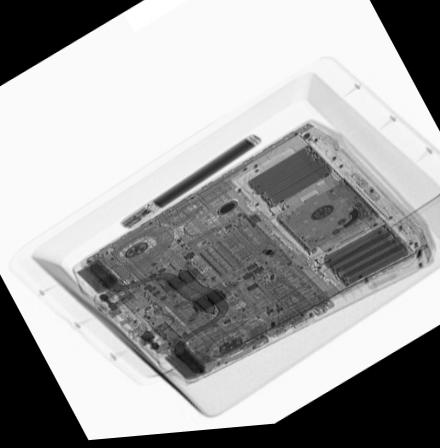Powerbank: (114, 138, 258, 232)
